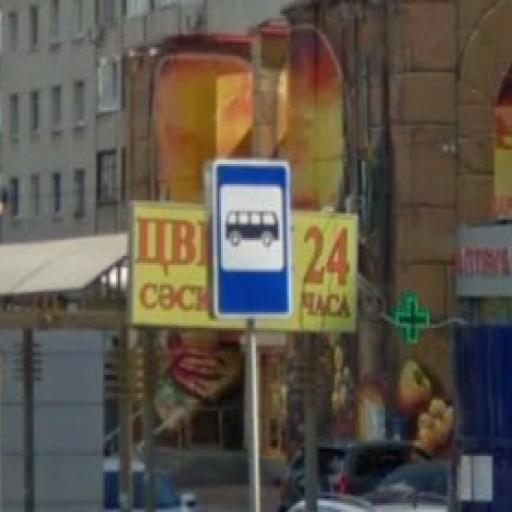traffic_sign: (213, 156, 292, 320)
